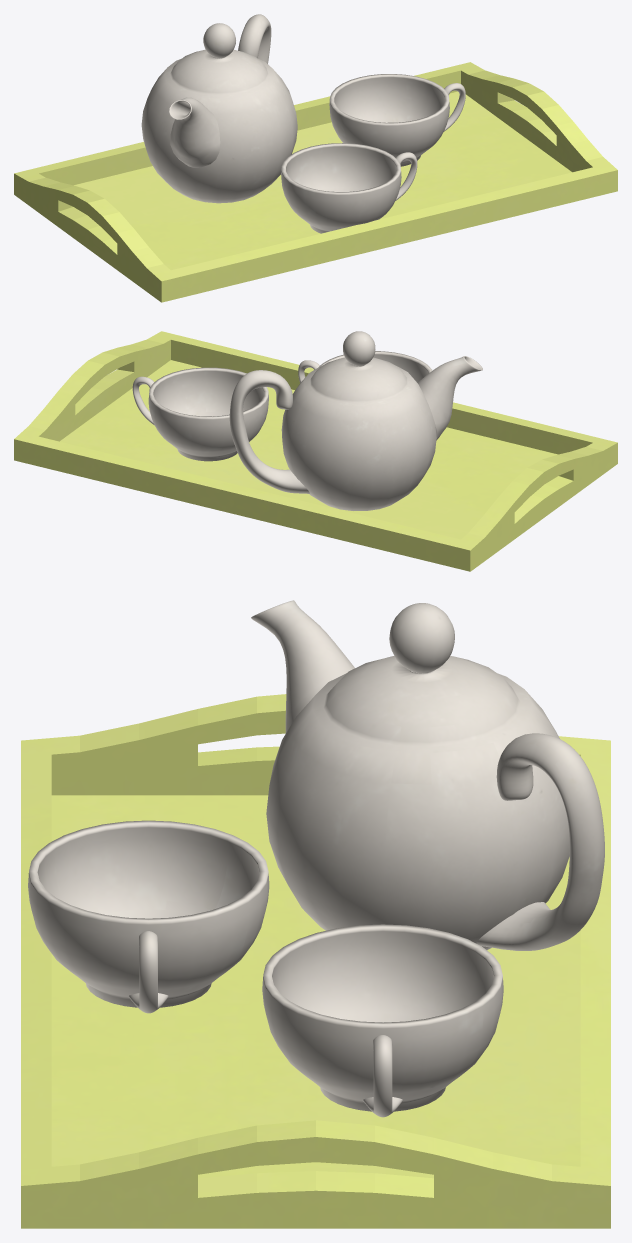
The model's file is salotto_teiera.fbx.
3 renders of one model, top to bottom at view 1: azimuth 30°, elevation 25°; view 2: azimuth 150°, elevation 25°; view 3: azimuth 270°, elevation 25°, orthographic. The views are drawn at different scales.
Visible parts, largest first — view 1: Cylinder; view 2: Cylinder; view 3: Cylinder.
Boxes of the visible parts, left/top/right/bottom form: Cylinder: left=14, top=14, right=617, bottom=302; Cylinder: left=14, top=331, right=617, bottom=571; Cylinder: left=21, top=600, right=610, bottom=1228.
Bounding box in the file's own units: 46.79 × 16.25 × 26.2.
